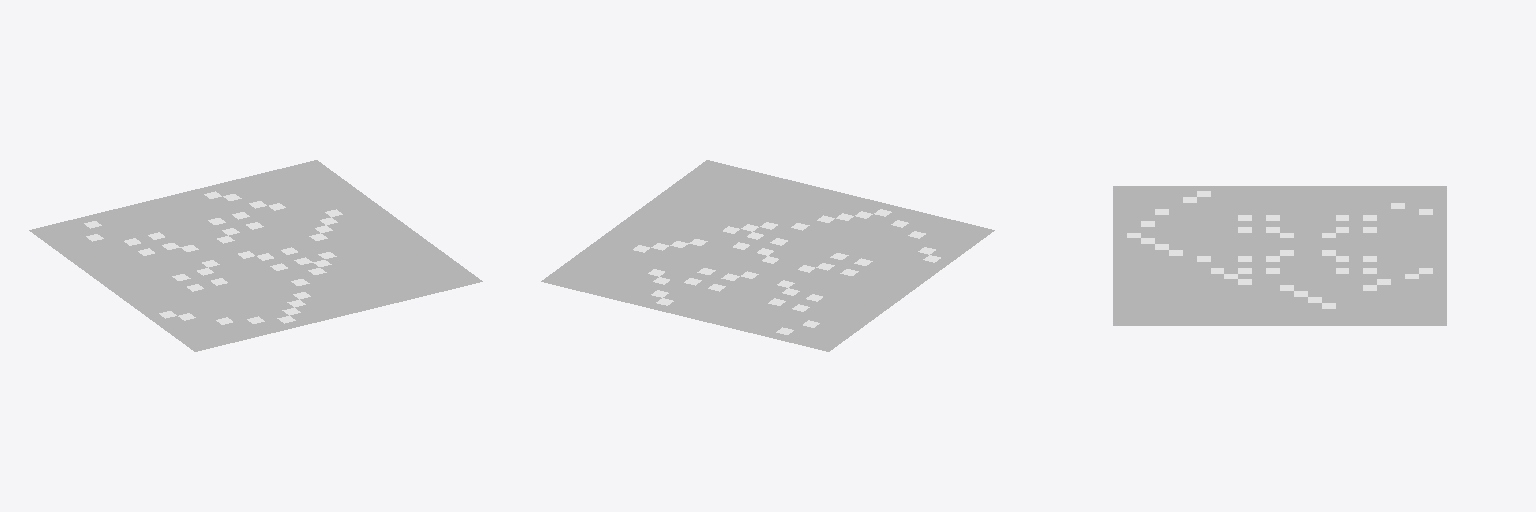
File: FloorCorner_3.obj
3 renders of one model, left to right at view 1: azimuth 30°, elevation 25°; view 2: azimuth 150°, elevation 25°; view 3: azimuth 270°, elevation 25°, orthographic.
Visible parts, largest first — view 1: FloorCorner_3; view 2: FloorCorner_3; view 3: FloorCorner_3.
Part boxes in pixels (x1,y1,x2,y2): FloorCorner_3: (29,160,482,351); FloorCorner_3: (541,160,994,351); FloorCorner_3: (1113,186,1446,325).
Size of the model in its own units: 24 by 0 by 24.